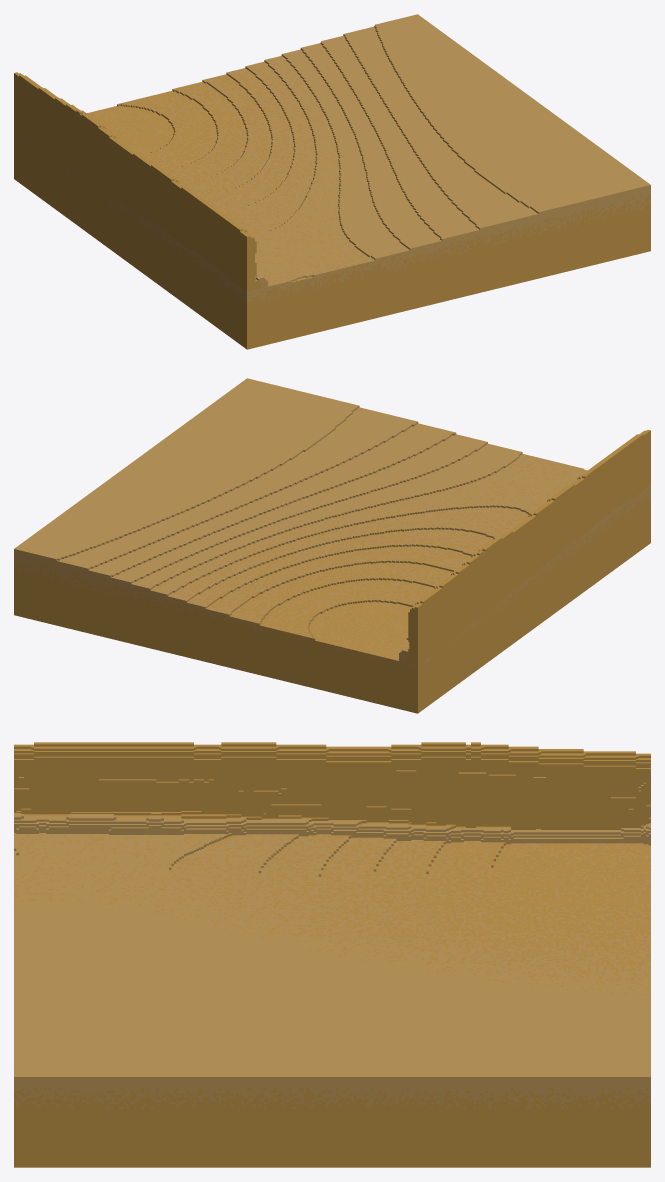
The model's file is Marte-7.obj.
3 renders of one model, top to bottom at view 1: azimuth 30°, elevation 25°; view 2: azimuth 150°, elevation 25°; view 3: azimuth 270°, elevation 25°, orthographic. The views are drawn at different scales.
Size of the model in its own units: 25.5 by 6.9 by 25.5.
1 material, 1 textured.
